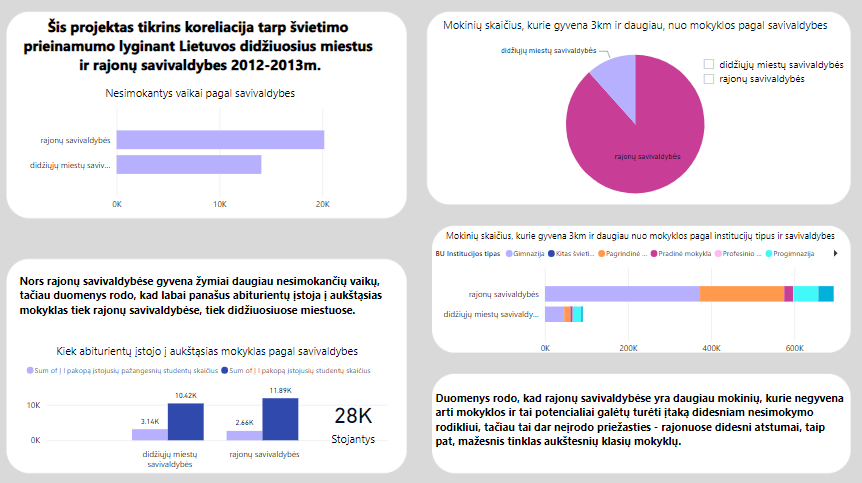

This screenshot's page, from the dashboard's own definition file:
{"tool":"powerbi","page":{"name":"page 1","canvas":[1280,720],"ordinal":0},"visuals":[{"type":"barChart","title":"Nesimokantys vaikai pagal savivaldybes","fields":{"Y":["Sum(Nesimokanciu vaiku duomenys-41-lt-lt.Nesimokančių vaikų skaičius)"],"Category":["Nesimokanciu vaiku duomenys-41-lt-lt.Asmens gyvenamosios vietos savivaldybė (groups)"]},"box":[28.6,124.9,541.3,193.9],"z":0},{"type":"clusteredColumnChart","title":"Kiek abiturientų įstojo į aukštąsias mokyklas pagal savivaldybes","fields":{"Category":["Stojimas i aukstasias mokyklas-357-lt-lt.Išsilavinimo savivaldybė (groups)"],"Y":["Sum(Stojimas i aukstasias mokyklas-357-lt-lt.Į I pakopą įstojusių pažangesnių studentų skaičius)","Sum(Stojimas i aukstasias mokyklas-357-lt-lt.Į I pakopą įstojusių studentų skaičius)"]},"box":[38.1,504.4,541.3,193.9],"z":1000},{"type":"textbox","box":[28.6,19,541.3,115.4],"z":2000},{"type":"pieChart","title":"Mokinių skaičius, kurie gyvena 3km ir daugiau, nuo mokyklos pagal savivaldybes","fields":{"Category":["Mokiniai gyvenantys toliau nei 3 km nuo mokyklos-18-lt-lt.BU Institucijos savivaldybė (groups)"],"Y":["Sum(Mokiniai gyvenantys toliau nei 3 km nuo mokyklos-18-lt-lt.BU Mokinių skaičius)"]},"box":[649.5,25,577,293.8],"z":3000},{"type":"barChart","title":"Mokinių skaičius, kurie gyvena 3km ir daugiau nuo mokyklos pagal institucijų tipus ir savivaldybes","fields":{"Category":["Mokiniai gyvenantys toliau nei 3 km nuo mokyklos-18-lt-lt.BU Institucijos savivaldybė (groups)"],"Series":["Mokiniai gyvenantys toliau nei 3 km nuo mokyklos-18-lt-lt.BU Institucijos tipas"],"Y":["Sum(Mokiniai gyvenantys toliau nei 3 km nuo mokyklos-18-lt-lt.BU Mokinių skaičius)"]},"box":[640,336.7,612.6,193.9],"z":4000},{"type":"textbox","box":[28.6,396.4,559.4,82.3],"z":5000},{"type":"textbox","box":[640,568.6,612.6,99.9],"z":6000},{"type":"card","fields":{"Values":["Table.Stojantys"]},"box":[467.5,574.6,111.8,88],"z":7000},{"type":"slicer","fields":{"Values":["Nesimokantys.Asmens gyvenamosios vietos savivaldybė (groups)"]},"box":[1026.4,77.3,253.6,73.9],"z":7001}]}

Visuals, with their boxes in screenshot pixels (x1, y1, x2, y2), scaled from the page's 1280x720 canvas onto the 862x483 screenshot:
"Nesimokantys vaikai pagal savivaldybes" barChart: [19,84,384,214]
"Kiek abiturientų įstojo į aukštąsias mokyklas pagal savivaldybes" clusteredColumnChart: [26,338,390,468]
textbox: [19,13,384,90]
"Mokinių skaičius, kurie gyvena 3km ir daugiau, nuo mokyklos pagal savivaldybes" pieChart: [437,17,826,214]
"Mokinių skaičius, kurie gyvena 3km ir daugiau nuo mokyklos pagal institucijų tipus ir savivaldybes" barChart: [431,226,844,356]
textbox: [19,266,396,321]
textbox: [431,381,844,448]
card - Table.Stojantys: [315,385,390,444]
slicer - Nesimokantys.Asmens gyvenamosios vietos savivaldybė (groups): [691,52,861,101]
